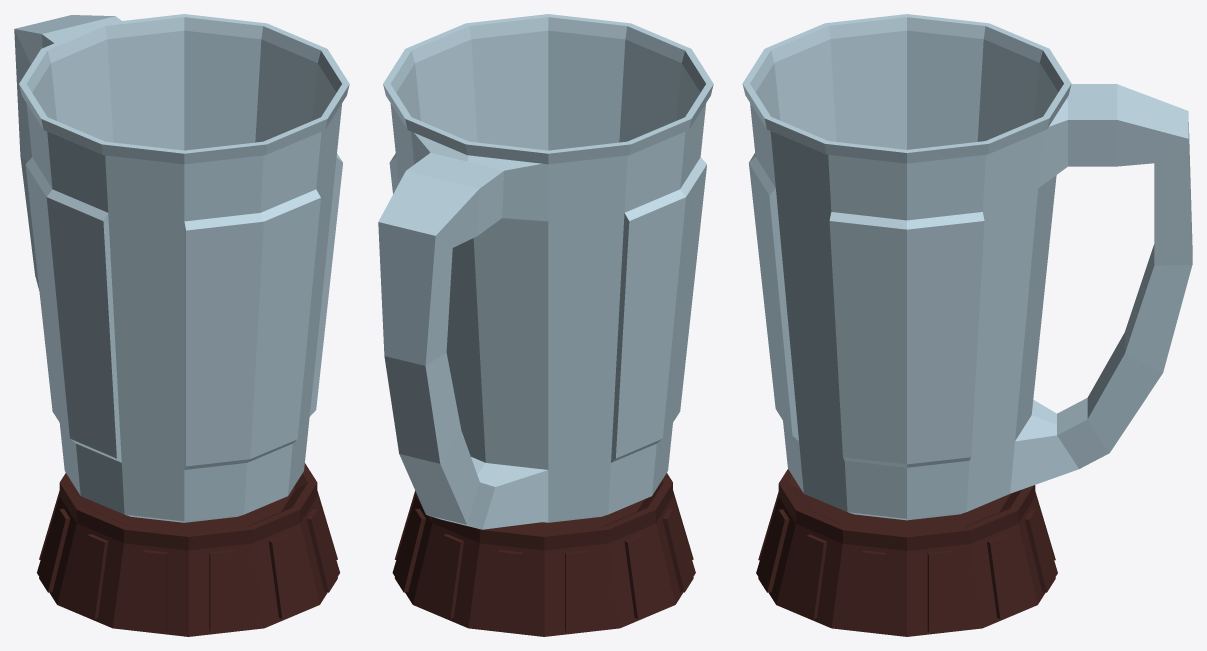
Rendered from capacity_01_C.gltf.
The picture shows the model from 3 angles, left to right: view 1: azimuth 30°, elevation 25°; view 2: azimuth 150°, elevation 25°; view 3: azimuth 270°, elevation 25°; orthographic projection.
Parts seen in each view (by area): view 1: capacity_01_C, blender_01_C; view 2: capacity_01_C, blender_01_C; view 3: capacity_01_C, blender_01_C.
Part boxes in pixels (x1,y1,x2,y2): capacity_01_C: (14, 14, 349, 522); blender_01_C: (37, 463, 339, 636); capacity_01_C: (378, 14, 713, 529); blender_01_C: (392, 473, 695, 636); capacity_01_C: (742, 14, 1192, 520); blender_01_C: (756, 469, 1057, 636).
Bounding box in the file's own units: 0.1366 × 0.2239 × 0.1868.
1 material, 1 textured.
